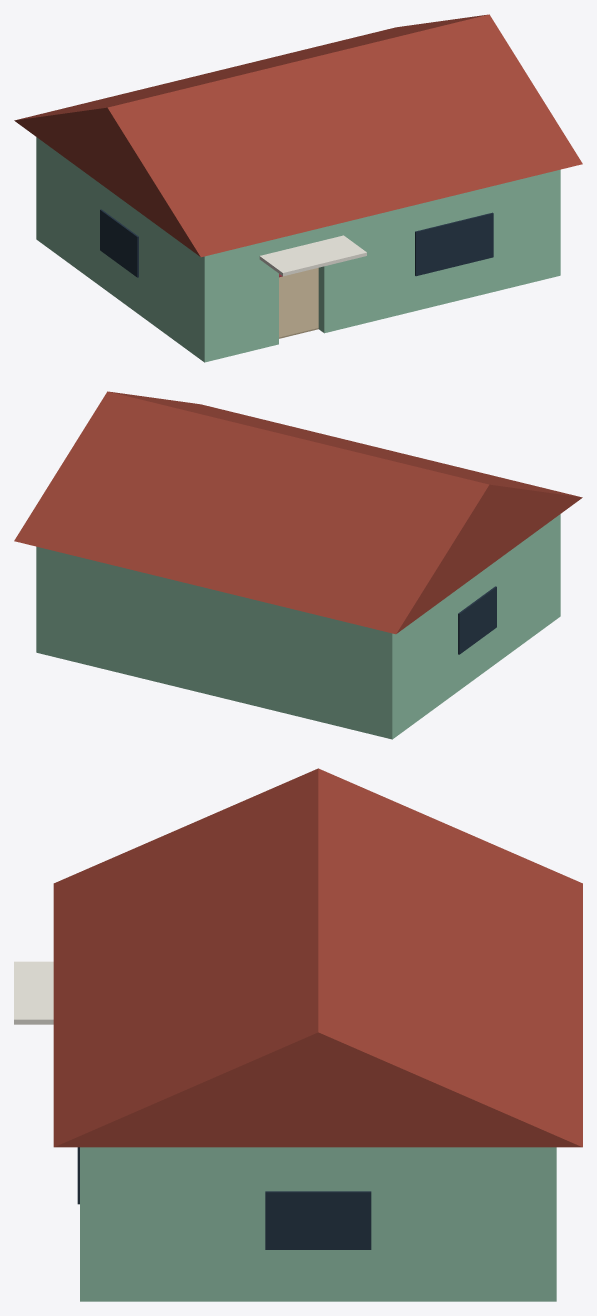
The model's file is safehouse.glb.
The picture shows the model from 3 angles, top to bottom: view 1: azimuth 30°, elevation 25°; view 2: azimuth 150°, elevation 25°; view 3: azimuth 270°, elevation 25°; orthographic projection. The views are drawn at different scales.
Parts seen in each view (by area): view 1: safehouse_Body; view 2: safehouse_Body; view 3: safehouse_Body.
Part boxes in pixels (<box>): safehouse_Body: <box>14,14,582,362</box>; safehouse_Body: <box>14,391,582,739</box>; safehouse_Body: <box>14,768,582,1301</box>.
Bounding box in the file's own units: 11.8 × 5.8 × 10.75.
